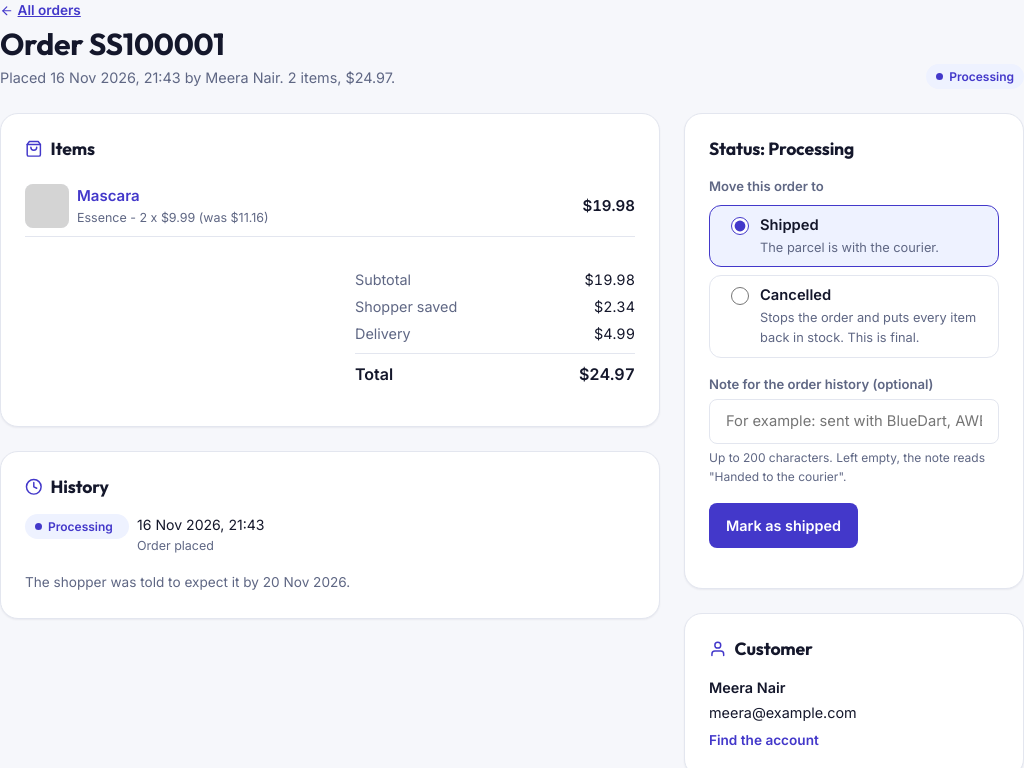
AdminOrderDetails › puts a cancelled order back on the shop shelves
Check: the heading "Status: Processing" is shown, box [709,137,854,160]
Step 1. Click the radio button labelled "Cancelled" → click(740, 296), box [731,287,749,305]
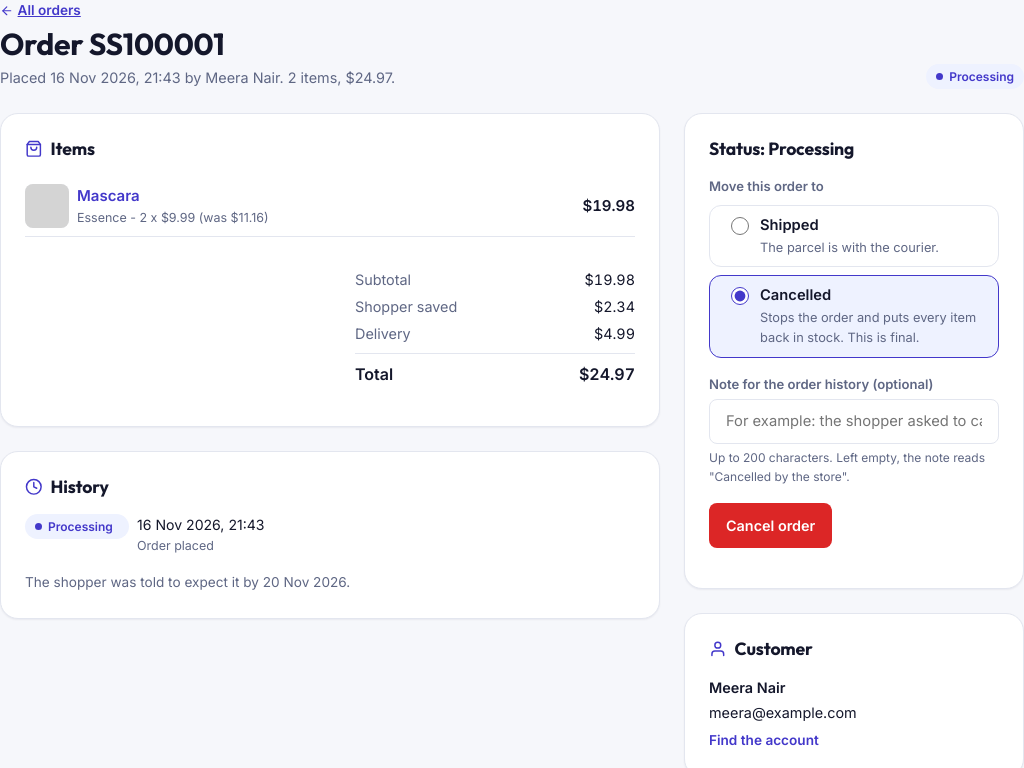
Step 2. Click the button "Cancel order" → click(771, 525), box [709,503,832,548]
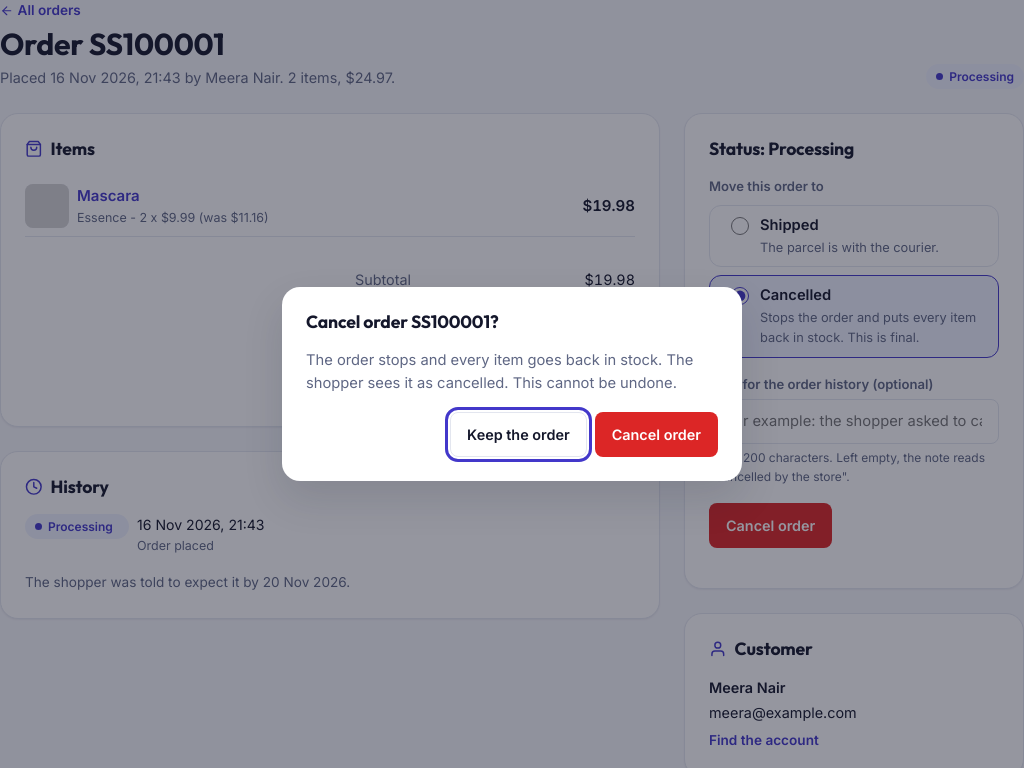
Step 3. Click the button "Cancel order" below "Cancel order SS100001?" → click(656, 434), box [595,412,718,457]
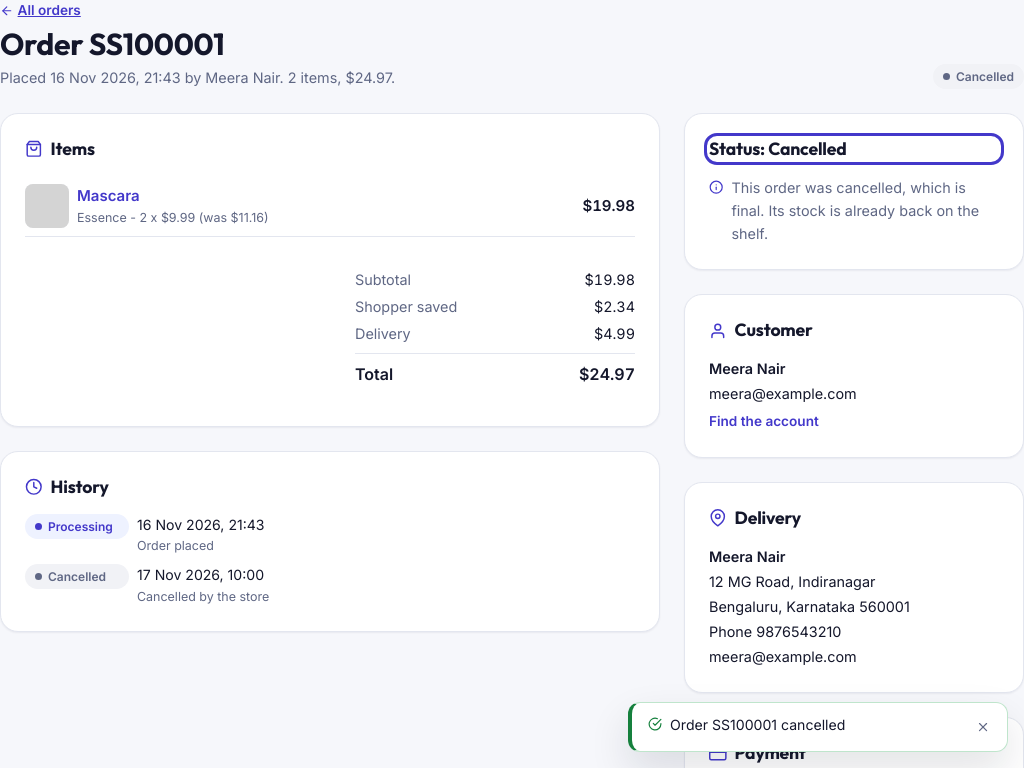
Check: the heading "Status: Cancelled" is shown, box [709,137,846,160]
